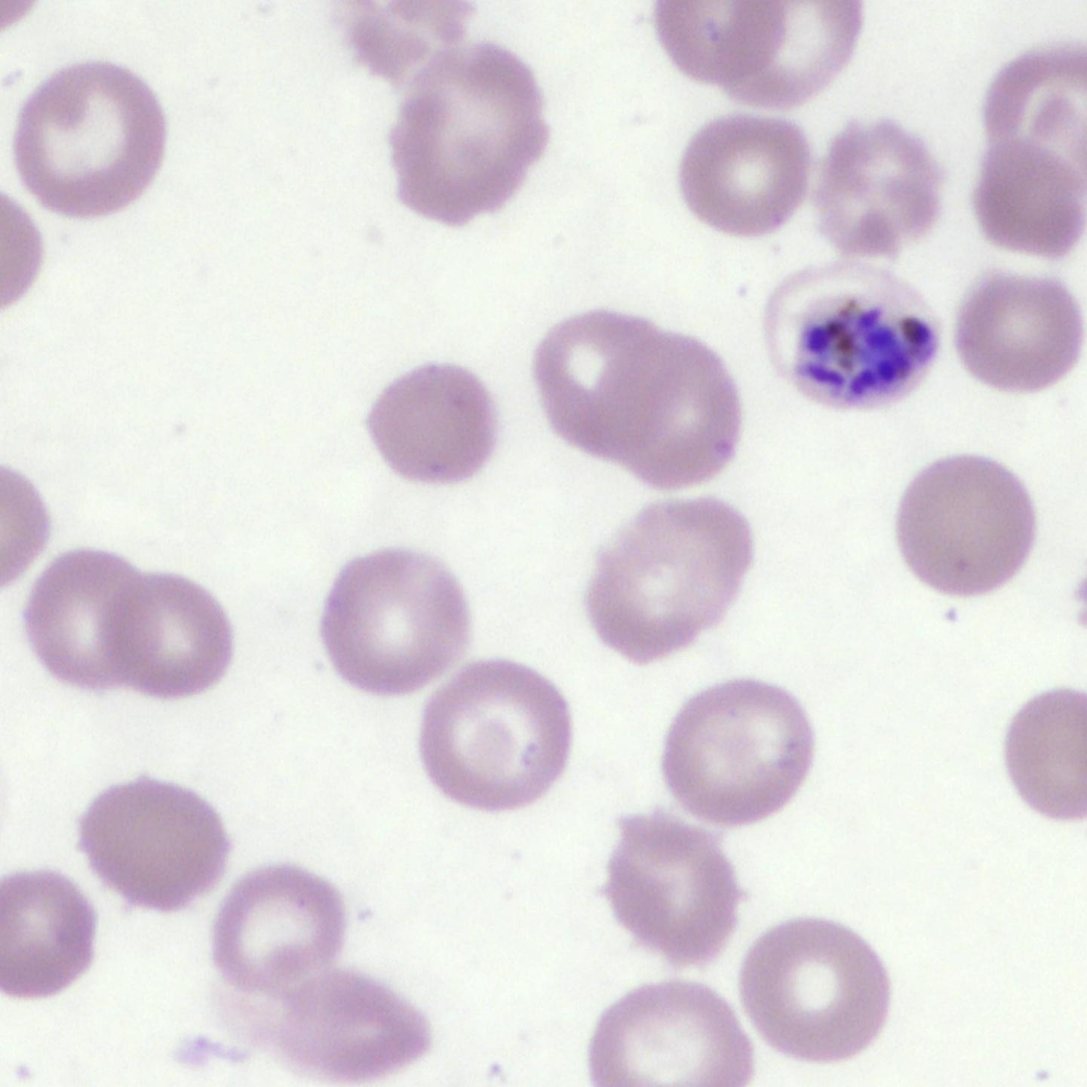Infected: (762, 260, 945, 411)
Uninfected: (397, 41, 546, 232), (588, 494, 749, 664), (18, 59, 171, 220), (739, 914, 893, 1072), (664, 675, 816, 825), (593, 335, 743, 487), (417, 657, 563, 812), (890, 453, 1039, 601), (322, 554, 468, 703), (601, 803, 734, 966), (533, 300, 672, 455), (20, 546, 158, 693), (588, 969, 758, 1087), (75, 775, 226, 906), (106, 562, 236, 705), (209, 861, 345, 996), (815, 117, 939, 258), (679, 109, 805, 238), (953, 272, 1078, 399), (372, 365, 491, 480)
